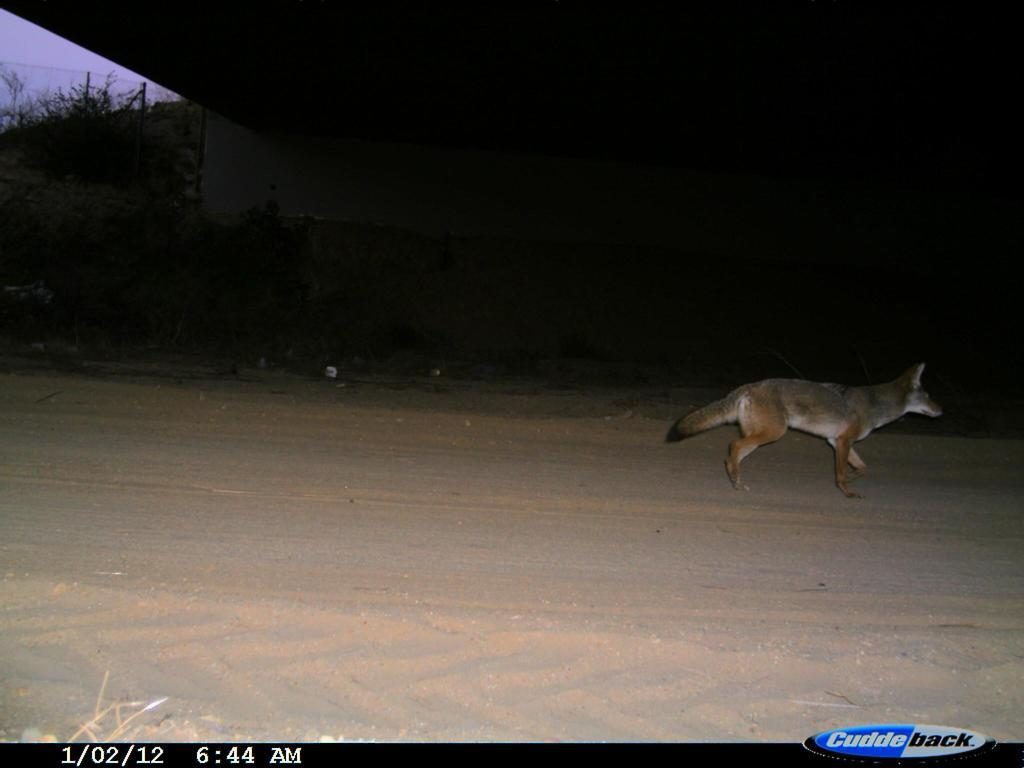coyote: (652, 354, 958, 507)
